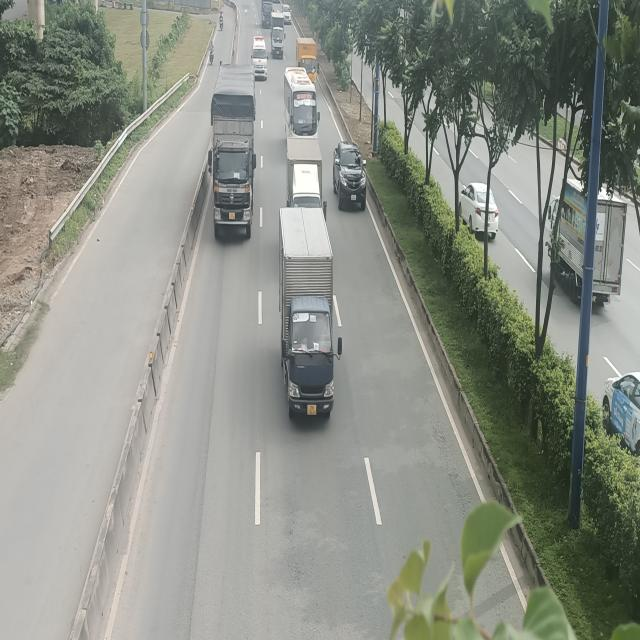car: (332, 139, 367, 208)
coach: (283, 66, 321, 138)
truck: (278, 207, 343, 419), (208, 62, 256, 238), (287, 137, 323, 205), (296, 37, 319, 87), (270, 12, 286, 59), (261, 0, 273, 28)
van: (251, 34, 268, 78)
